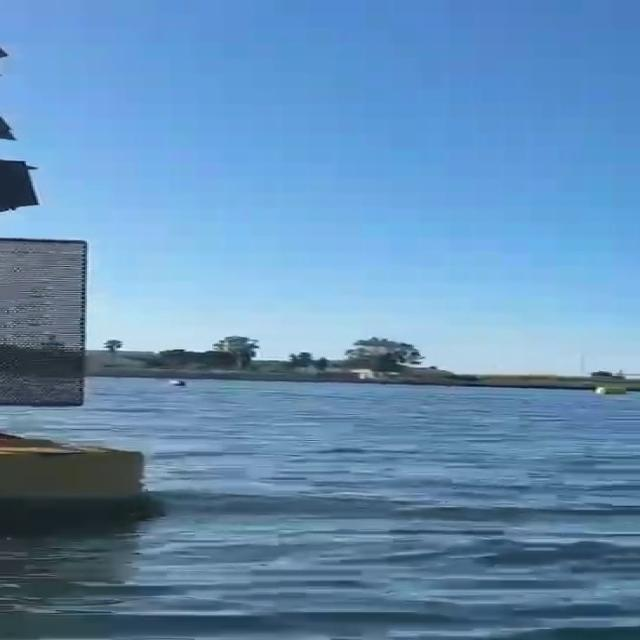marque: (1, 48, 175, 530)
